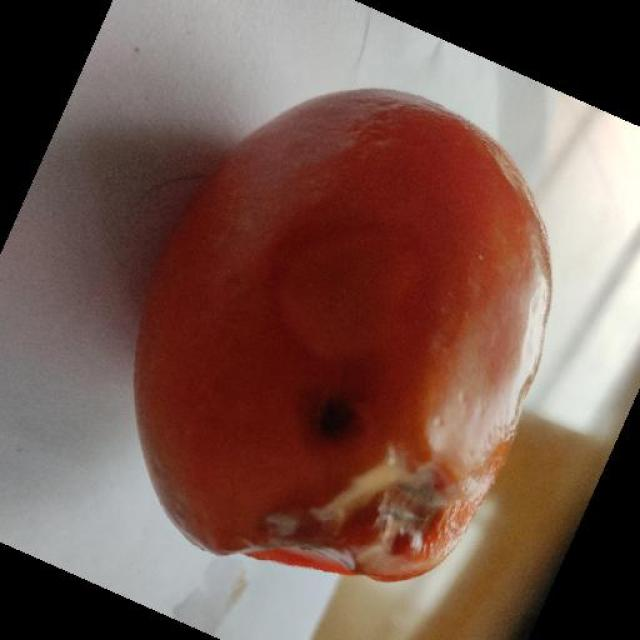Stale_tomato: (170, 74, 540, 587)
